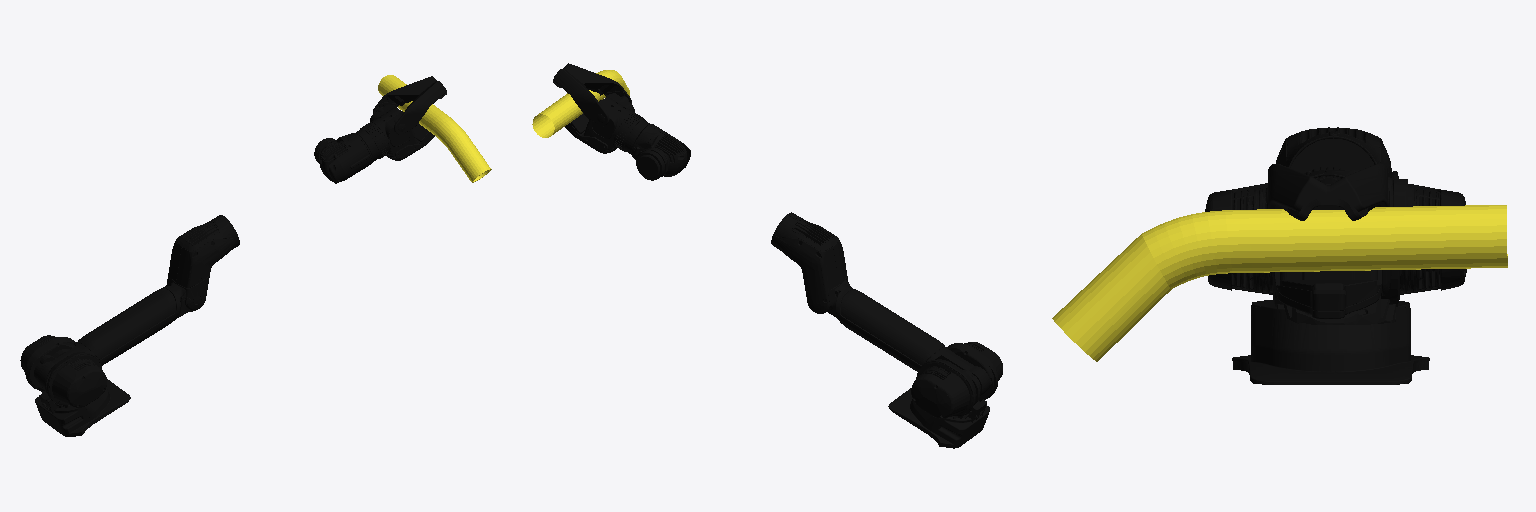
robot.urdf — spot_arm:
<?xml version="1.0" ?>
<robot name="spot_arm" xmlns:xacro="http://www.ros.org/wiki/xacro">

<material name="silver">
  <!-- <color rgba="0.700 0.700 0.700 1.000"/> -->
  <color rgba="0.100 0.100 0.100 1.000"/>
</material>

<link name="base_link"/>
<joint name="base_link_joint" type="fixed">
    <origin xyz="0 0 0.4" rpy="0 -0.34906585039 0" />
    <parent link="base_link" />
    <child link="body" />
</joint>

<link name="body">
    <visual>
        <geometry>
            <mesh filename="package://spot_arm/meshes/body.dae" />
        </geometry>
    </visual>
    <collision>
        <geometry>
            <mesh filename="package://spot_arm/meshes/body_collision.dae" />
        </geometry>
    </collision>
</link>

<joint name="base_arm_joint" type="fixed">
  <origin xyz="0.29 0 0.08" rpy="0 0 0" />
  <parent link="body" />
  <child link="base_arm_link" />
</joint>

<link name="base_arm_link">
  <inertial>
    <origin rpy="0 0 0" xyz="1.2371844231029972e-17 0.0 0.0325"/>
    <mass value="5.770791545379091"/>
    <inertia ixx="0.007226" ixy="-0.0" ixz="0.0" iyy="0.007226" iyz="0.0" izz="0.010387"/>
  </inertial>
  <visual>
    <origin rpy="0 0 0" xyz="0 0 0"/>
    <geometry>
      <mesh filename="package://spot_arm/meshes/arm/spot_0.dae"/>
    </geometry>
    <material name="silver"/>
  </visual>
  <collision>
    <origin rpy="0 0 0" xyz="0 0 0"/>
    <geometry>
      <mesh filename="package://spot_arm/meshes/arm/spot_0.dae"/>
    </geometry>
  </collision>
</link>

<joint name="arm_joint1" type="revolute">
  <origin rpy="0 0 0" xyz="0.0 0.0 0.065"/>
  <parent link="base_arm_link"/>
  <child link="link1"/>
  <axis xyz="0.0 0.0 1.0"/>
  <limit effort="100" lower="-3.141593" upper="2.617994" velocity="100"/>
</joint>

<link name="link1">
  <inertial>
    <origin rpy="0 0 0" xyz="0.05071972800114364 -1.0308563411658574e-17 0.04676911608650795"/>
    <mass value="6.925827706354272"/>
    <inertia ixx="0.01241" ixy="-0.0" ixz="-0.001047" iyy="0.010387" iyz="0.0" izz="0.012306"/>
  </inertial>
  <visual>
    <origin rpy="0 0 0" xyz="-0.0 -0.0 -0.065"/>
    <geometry>
      <mesh filename="package://spot_arm/meshes/arm/spot_1.dae" />
    </geometry>
    <material name="silver"/>
  </visual>
  <collision>
    <origin rpy="0 0 0" xyz="-0.0 -0.0 -0.065"/>
    <geometry>
      <mesh filename="package://spot_arm/meshes/arm/spot_1.dae" />
    </geometry>
  </collision>
</link>


<joint name="arm_joint2" type="revolute">
  <origin rpy="0 0 0" xyz="0.0 0.0 0.05"/>
  <parent link="link1"/>
  <child link="link2"/>
  <axis xyz="0.0 1.0 0.0"/>
  <limit effort="100" lower="-3.665191" upper="0.0" velocity="100"/>
</joint>


<link name="link2">
  <inertial>
    <origin rpy="0 0 0" xyz="-0.0163095589512068 0.17540914221218962 0.0"/>
    <mass value="12.658281999999998"/>
    <inertia ixx="0.12979" ixy="0.002625" ixz="0.0" iyy="0.01004" iyz="0.0" izz="0.129493"/>
  </inertial>
  <visual>
    <origin rpy="0 3.14159265 0" xyz="-0.03 0.0 0.0"/>
    <geometry>
      <mesh filename="package://spot_arm/meshes/arm/spot_2.dae"/>
    </geometry>
    <material name="silver"/>
  </visual>
  <collision>
    <origin rpy="0 0 0" xyz="-0.015 -0.0 -0.115"/>
    <geometry>
      <mesh filename="package://spot_arm/meshes/arm/spot_2.dae" />
    </geometry>
  </collision>
</link>



<joint name="arm_joint3" type="revolute">
  <origin rpy="0 0 0" xyz="0.3125 0.00 0.0"/>
  <parent link="link2"/>
  <child link="link3"/>
  <axis xyz="0.0 1.0 0.0"/>
  <limit effort="100" lower="0.0" upper="2.96706" velocity="100"/>
</joint>


<link name="link3">
  <inertial>
    <origin rpy="0 0 0" xyz="-0.015621881612358529 0.06665620790957599 -0.058074231003688394"/>
    <mass value="7.368455487741179"/>
    <inertia ixx="0.018073" ixy="0.000915" ixz="-0.00101" iyy="0.011789" iyz="0.003728" izz="0.01667"/>
  </inertial>
  <visual>
    <origin rpy="0 0 0" xyz="0 0 0"/>
    <geometry>
      <mesh filename="package://spot_arm/meshes/arm/spot_3.dae"/>
    </geometry>
    <material name="silver"/>
  </visual>
  <collision>
    <origin rpy="0 0 0" xyz="-0.017 -0.3125 -0.115"/>
    <geometry>
      <mesh filename="package://spot_arm/meshes/arm/spot_3.dae" />
    </geometry>
  </collision>
</link>


<joint name="arm_joint4" type="revolute">
  <origin rpy="0 0 0" xyz="0.138 0.0 0.075"/>
  <parent link="link3"/>
  <child link="link4"/>
  <axis xyz="1.0 0.0 0.0"/>
  <limit effort="100" lower="-2.879793" upper="2.879793" velocity="100"/>
</joint>


<link name="link4">
  <inertial>
    <origin rpy="0 0 0" xyz="-0.00911464892336129 0.12606054498393937 5.551115123125783e-17"/>
    <mass value="10.95245995004642"/>
    <inertia ixx="0.066789" ixy="0.011971" ixz="-0.0" iyy="0.014993" iyz="0.0" izz="0.071949"/>
  </inertial>
  <visual>
    <origin rpy="1.57079632679 0 0" xyz="0 0 0"/>
    <geometry>
      <mesh filename="package://spot_arm/meshes/arm/spot_4.dae" />
    </geometry>
    <material name="silver"/>
  </visual>
  <collision>
    <origin rpy="0 0 0" xyz="0.001 -0.4505 -0.0475"/>
    <geometry>
      <mesh filename="package://spot_arm/meshes/arm/spot_4.dae" />
    </geometry>
  </collision>
</link>


<joint name="arm_joint5" type="revolute">
  <origin rpy="0 0 0" xyz="0.283 0 0.0"/>
  <parent link="link4"/>
  <child link="wrist"/>
  <axis xyz="0.0 1.0 0.0"/>
  <limit effort="100" lower="-1.570796" upper="1.570796" velocity="100"/>
</joint>


<link name="wrist">
  <inertial>
    <origin rpy="0 0 0" xyz="0.03954999709763633 0.03472006124891969 4.209155544249166e-08"/>
    <mass value="3.2278801394086396"/>
    <inertia ixx="0.00339" ixy="-2.1e-05" ixz="0.0" iyy="0.002242" iyz="-0.0" izz="0.003439"/>
  </inertial>
  <visual>
    <origin rpy="1.57079632679 0 0" xyz="0.0 0 0"/>
    <geometry>
      <mesh filename="package://spot_arm/meshes/arm/spot_5.dae" />
    </geometry>
    <material name="silver"/>
  </visual>
  <collision>
    <origin rpy="0 0 0" xyz="0.0485 -0.69859 -0.0475"/>
    <geometry>
      <mesh filename="package://spot_arm/meshes/arm/spot_5.dae" />
    </geometry>
  </collision>
</link>

<joint name="arm_joint6" type="revolute">
  <origin rpy="0 0 0" xyz="0.056 0.0 0.0"/>
  <parent link="wrist"/>
  <child link="gripper"/>
  <axis xyz="1.0 0.0 0.0"/>
  <limit effort="100" lower="-2.96706" upper="2.96706" velocity="100"/>
</joint>


<link name="gripper">
  <inertial>
    <origin rpy="0 0 0" xyz="-8.366123908053191e-08 0.07051371901138614 0.017123167388316526"/>
    <mass value="5.9780007036604434"/>
    <inertia ixx="0.01723" ixy="0.0" ixz="0.0" iyy="0.00734" iyz="-0.003871" izz="0.0153"/>
  </inertial>
  <visual>
    <origin rpy="0 0 0" xyz="0 0 0"/>
    <geometry>
      <mesh filename="package://spot_arm/meshes/arm/spot_6.dae" />
    </geometry>
    <material name="silver"/>
  </visual>
  <collision>
    <origin rpy="0 0 0" xyz="0.0085 -0.77959 -0.0475"/>
    <geometry>
      <mesh filename="package://spot_arm/meshes/arm/spot_6.dae" />
    </geometry>
  </collision>
</link>

<joint name="arm_gripper" type="revolute">
  <origin rpy="0 -0.45 0" xyz="0.078 0 0.025"/>
  <parent link="gripper"/>
  <child link="finger"/>
  <axis xyz="0.0 1.0 0.0"/>
  <limit effort="100" lower="-1.396263" upper="0.349066" velocity="100"/>
</joint>

<link name="finger">
  <inertial>
    <origin rpy="0 0 0" xyz="0.8635899028063472 0.09862056591557622 0.00850232975194119"/>
    <mass value="1.71236178687828"/>
    <inertia ixx="0.002129" ixy="0.0" ixz="-0.0" iyy="0.001681" iyz="0.000162" izz="0.003403"/>
  </inertial>
  <visual>
    <origin rpy="0 0 0" xyz="0 0 0"/>
    <geometry>
      <mesh filename="package://spot_arm/meshes/arm/spot_7.dae" />
    </geometry>
    <material name="silver"/>
  </visual>
  <collision>
    <origin rpy="0 0 0" xyz="0.87709 -0.823505 -0.0185"/>
    <geometry>
      <mesh filename="package://spot_arm/meshes/arm/spot_7.dae" />
    </geometry>
  </collision>
</link>


 <link name="finger_tip"/>
  <joint name="finger_tip_joint" type="fixed">
    <origin xyz="0.2 0.0 0.0" rpy="0 1.57079632679 0"/>
    <parent link="gripper" />
    <child link="finger_tip" />
  </joint>

  <joint name="tool_tip_joint" type="fixed">
    <!-- <origin xyz="0.0 -0.15 0.1 " rpy="1.5 0 0" />  -->
    <!-- <origin xyz="0.0 -0.15 0.0 " rpy="0.8 0 0" /> -->
    <origin xyz="0.08 -0.2 -0.05 " rpy="1.57079632679 0.0 0.8" />
    <parent link="finger_tip" />
    <child link="tool_tip" />
  </joint>



  <!-- <joint name="tool_tip_joint" type="fixed">
    <origin xyz="0.35 -0.08 0.0" rpy="0.4103802 1.5315599 -0.4103802" />
    <parent link="gripper" />
    <child link="tool_tip" />
  </joint> -->

  <link name="tool_tip">
    <visual>
      <origin rpy="0 0 0" xyz="0 0 0"/>
      <geometry>
        <mesh filename="package://spot_arm/meshes/arm/vacuum.dae" scale="1.3 1.3 1.3"/>
      </geometry>
      <!-- <material name="silver"/> -->
    </visual>
  </link>

    <link name="front_rail"/>
    <joint name="front_rail_joint" type="fixed">
        <origin xyz="0.223 0 0.0805" rpy="0 0 0" />
        <parent link="body" />
        <child link="front_rail" />
    </joint>

    <link name="real_front_rail"/>
    <joint name="real_front_rail_joint" type="fixed">
        <origin xyz="0.2075 0 0.0805" rpy="0 0 0" />
        <parent link="body" />
        <child link="real_front_rail" />
    </joint>

    <link name="rear_rail"/>
    <joint name="rear_rail_joint" type="fixed">
        <origin xyz="-0.223 0 0.0805" rpy="0 0 0" />
        <parent link="body" />
        <child link="rear_rail" />
    </joint>

    <link name="real_rear_rail"/>
    <joint name="real_rear_rail_joint" type="fixed">
        <origin xyz="-0.415 0 0" rpy="0 0 0" />
        <parent link="real_front_rail" />
        <child link="real_rear_rail" />
    </joint>

    <link name="front_left_hip">
        <visual>
            <geometry>
                <mesh filename="package://spot_arm/meshes/front_left_hip.dae" />
            </geometry>
        </visual>
        <collision>
            <geometry>
                <mesh filename="package://spot_arm/meshes/front_left_hip_collision.dae" />
            </geometry>
        </collision>
    </link>
    <joint name="front_left_hip_x" type="revolute">
        <origin xyz="0.29785 0.05500 0.00000" rpy="0.0 0 0" />
        <axis xyz="1 0 0" />
        <parent link="body" />
        <child link="front_left_hip" />
        <limit effort="1000" velocity="1000.00" lower="-0.78539816339744827899" upper="0.78539816339744827899" />
    </joint>
    <link name="front_left_upper_leg">
        <visual>
            <geometry>
                <mesh filename="package://spot_arm/meshes/front_left_upper_leg.dae" />
            </geometry>
        </visual>
        <collision>
            <geometry>
                <mesh filename="package://spot_arm/meshes/front_left_upper_leg_collision.dae" />
            </geometry>
        </collision>
    </link>
    <joint name="front_left_hip_y" type="revolute">
        <origin xyz="0.0 0.110945 0.0" rpy="0 0 0" />
        <axis xyz="0 1 0" />
        <parent link="front_left_hip" />
        <child link="front_left_upper_leg" />
        <limit effort="1000" velocity="1000.00" lower="-0.89884456477707963539" upper="2.2951079663725435509" />
    </joint>
    <link name="front_left_lower_leg">
        <visual>
            <geometry>
                <mesh filename="package://spot_arm/meshes/front_left_lower_leg.dae" />
            </geometry>
        </visual>
        <collision>
            <geometry>
                <mesh filename="package://spot_arm/meshes/front_left_lower_leg_collision.dae" />
            </geometry>
        </collision>
    </link>
    <joint name="front_left_knee" type="revolute">
        <origin xyz="0.025 0.000 -0.3205" rpy="0 0 0" />
        <axis xyz="0 1 0" />
        <parent link="front_left_upper_leg" />
        <child link="front_left_lower_leg" />
        <limit effort="1000" velocity="1000.00" lower="-2.7929" upper="-0.254801" />
    </joint>
    <link name="front_right_hip">
        <visual>
            <geometry>
                <mesh filename="package://spot_arm/meshes/front_right_hip.dae" />
            </geometry>
        </visual>
        <collision>
            <geometry>
                <mesh filename="package://spot_arm/meshes/front_right_hip_collision.dae" />
            </geometry>
        </collision>
    </link>
    <joint name="front_right_hip_x" type="revolute">
        <origin xyz="0.29785 -0.05500 0.00000" rpy="0 0 0" />
        <axis xyz="1 0 0" />
        <parent link="body" />
        <child link="front_right_hip" />
        <limit effort="1000" velocity="1000.00" lower="-0.78539816339744827899" upper="0.78539816339744827899" />
    </joint>
    <link name="front_right_upper_leg">
        <visual>
            <geometry>
                <mesh filename="package://spot_arm/meshes/front_right_upper_leg.dae" />
            </geometry>
        </visual>
        <collision>
            <geometry>
                <mesh filename="package://spot_arm/meshes/front_right_upper_leg_collision.dae" />
            </geometry>
        </collision>
    </link>
    <joint name="front_right_hip_y" type="revolute">
        <origin xyz="0.0 -0.110945 0.0" rpy="0 0 0" />
        <axis xyz="0 1 0" />
        <parent link="front_right_hip" />
        <child link="front_right_upper_leg" />
        <limit effort="1000" velocity="1000.00" lower="-0.89884456477707963539" upper="2.2951079663725435509" />
    </joint>
    <link name="front_right_lower_leg">
        <visual>
            <geometry>
                <mesh filename="package://spot_arm/meshes/front_right_lower_leg.dae" />
            </geometry>
        </visual>
        <collision>
            <geometry>
                <mesh filename="package://spot_arm/meshes/front_right_lower_leg_collision.dae" />
            </geometry>
        </collision>
    </link>
    <joint name="front_right_knee" type="revolute">
        <origin xyz="0.025 0.000 -0.3205" rpy="0 0 0" />
        <axis xyz="0 1 0" />
        <parent link="front_right_upper_leg" />
        <child link="front_right_lower_leg" />
        <limit effort="1000" velocity="1000.00" lower="-2.7929" upper="-0.247563" />
    </joint>
    <link name="rear_left_hip">
        <visual>
            <geometry>
                <mesh filename="package://spot_arm/meshes/rear_left_hip.dae" />
            </geometry>
        </visual>
        <collision>
            <geometry>
                <mesh filename="package://spot_arm/meshes/rear_left_hip_collision.dae" />
            </geometry>
        </collision>
    </link>
    <joint name="rear_left_hip_x" type="revolute">
        <origin xyz="-0.29785 0.05500 0.00000" rpy="0 0 0" />
        <axis xyz="1 0 0" />
        <parent link="body" />
        <child link="rear_left_hip" />
        <limit effort="1000" velocity="1000.00" lower="-0.78539816339744827899" upper="0.78539816339744827899" />
    </joint>
    <link name="rear_left_upper_leg">
        <visual>
            <geometry>
                <mesh filename="package://spot_arm/meshes/rear_left_upper_leg.dae" />
            </geometry>
        </visual>
        <collision>
            <geometry>
                <mesh filename="package://spot_arm/meshes/rear_left_upper_leg_collision.dae" />
            </geometry>
        </collision>
    </link>
    <joint name="rear_left_hip_y" type="revolute">
        <origin xyz="0.0 0.110945 0.0" rpy="0 0 0" />
        <axis xyz="0 1 0" />
        <parent link="rear_left_hip" />
        <child link="rear_left_upper_leg" />
        <limit effort="1000" velocity="1000.00" lower="-0.89884456477707963539" upper="2.2951079663725435509" />
    </joint>
    <link name="rear_left_lower_leg">
        <visual>
            <geometry>
                <mesh filename="package://spot_arm/meshes/rear_left_lower_leg.dae" />
            </geometry>
        </visual>
        <collision>
            <geometry>
                <mesh filename="package://spot_arm/meshes/rear_left_lower_leg_collision.dae" />
            </geometry>
        </collision>
    </link>
    <joint name="rear_left_knee" type="revolute">
        <origin xyz="0.025 0.000 -0.3205" rpy="0 0 0" />
        <axis xyz="0 1 0" />
        <parent link="rear_left_upper_leg" />
        <child link="rear_left_lower_leg" />
        <limit effort="1000" velocity="1000.00" lower="-2.7929" upper="-0.267153" />
    </joint>
    <link name="rear_right_hip">
        <visual>
            <geometry>
                <mesh filename="package://spot_arm/meshes/rear_right_hip.dae" />
            </geometry>
        </visual>
        <collision>
            <geometry>
                <mesh filename="package://spot_arm/meshes/rear_right_hip_collision.dae" />
            </geometry>
        </collision>
    </link>
    <joint name="rear_right_hip_x" type="revolute">
        <origin xyz="-0.29785 -0.05500 0.00000" rpy="0 0 0" />
        <axis xyz="1 0 0" />
        <parent link="body" />
        <child link="rear_right_hip" />
        <limit effort="1000" velocity="1000.00" lower="-0.78539816339744827899" upper="0.78539816339744827899" />
    </joint>
    <link name="rear_right_upper_leg">
        <visual>
            <geometry>
                <mesh filename="package://spot_arm/meshes/rear_right_upper_leg.dae" />
            </geometry>
        </visual>
        <collision>
            <geometry>
                <mesh filename="package://spot_arm/meshes/rear_right_upper_leg_collision.dae" />
            </geometry>
        </collision>
    </link>
    <joint name="rear_right_hip_y" type="revolute">
        <origin xyz="0.0 -0.110945 0.0" rpy="0 0 0" />
        <axis xyz="0 1 0" />
        <parent link="rear_right_hip" />
        <child link="rear_right_upper_leg" />
        <limit effort="1000" velocity="1000.00" lower="-0.89884456477707963539" upper="2.2951079663725435509" />
    </joint>
    <link name="rear_right_lower_leg">
        <visual>
            <geometry>
                <mesh filename="package://spot_arm/meshes/rear_right_lower_leg.dae" />
            </geometry>
        </visual>
        <collision>
            <geometry>
                <mesh filename="package://spot_arm/meshes/rear_right_lower_leg_collision.dae" />
            </geometry>
        </collision>
    </link>
    <joint name="rear_right_knee" type="revolute">
        <origin xyz="0.025 0.000 -0.3205" rpy="0 0 0" />
        <axis xyz="0 1 0" />
        <parent link="rear_right_upper_leg" />
        <child link="rear_right_lower_leg" />
        <limit effort="1000" velocity="1000.00" lower="-2.7929" upper="-0.257725" />
    </joint>

</robot>

--- Facts derived from the render (not from the file) ---
The picture shows the robot from 3 angles, left to right: view 1: azimuth 30°, elevation 25°; view 2: azimuth 150°, elevation 25°; view 3: azimuth 270°, elevation 25°; orthographic projection.
Robot: spot_arm — 28 links, 27 joints (19 revolute, 8 fixed); root link base_link; default pose: joints at zero except 4 at the middle of their limits (front_left_knee = -1.52, front_right_knee = -1.52, rear_left_knee = -1.53, rear_right_knee = -1.53).
Visible links, largest first — view 1: link2, link1, link3, tool_tip, gripper, base_arm_link, wrist, finger; view 2: link2, link1, link3, gripper, base_arm_link, wrist, finger, tool_tip; view 3: tool_tip, base_arm_link, link1, finger, gripper, link3, wrist.
Link boxes in pixels (box(x1,y1,x2,y2)): link2: box(29, 283, 195, 393); link1: box(20, 335, 106, 413); link3: box(166, 215, 239, 309); tool_tip: box(378, 75, 491, 182); gripper: box(356, 104, 434, 161); base_arm_link: box(35, 379, 130, 436); wrist: box(314, 133, 372, 183); finger: box(373, 76, 446, 134); link2: box(828, 280, 996, 404); link1: box(911, 342, 1002, 422); link3: box(771, 212, 848, 313); gripper: box(565, 93, 649, 154); base_arm_link: box(888, 388, 989, 448); wrist: box(632, 124, 690, 180); finger: box(553, 63, 631, 126); tool_tip: box(532, 70, 629, 137); tool_tip: box(1052, 205, 1507, 361); base_arm_link: box(1232, 300, 1429, 384); link1: box(1205, 171, 1466, 324); finger: box(1266, 164, 1389, 220); gripper: box(1275, 176, 1381, 318); link3: box(1276, 127, 1391, 295); wrist: box(1304, 167, 1414, 206).
Size in the robot's own frame: 0.9801 by 0.357 by 0.5893 metres.
8 mesh visuals loaded from 22 distinct referenced files (8 Collada DAE); not drawn: 14 (reference not matched to a file when rendering).